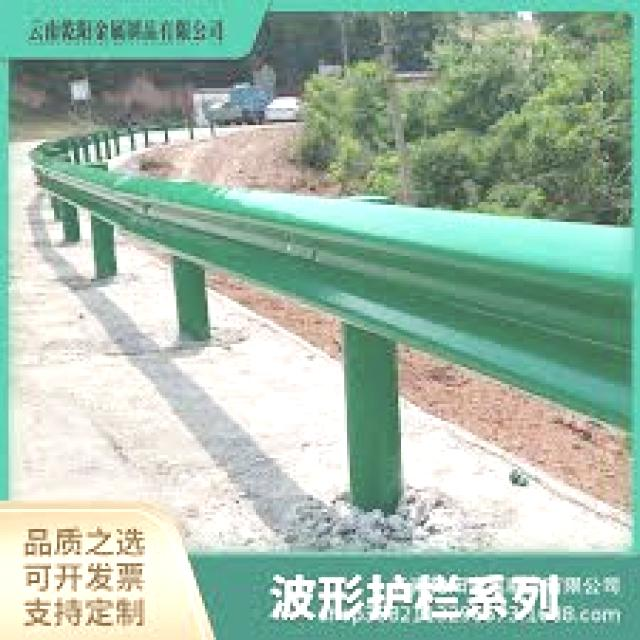Guard rail: (31, 142, 631, 428)
